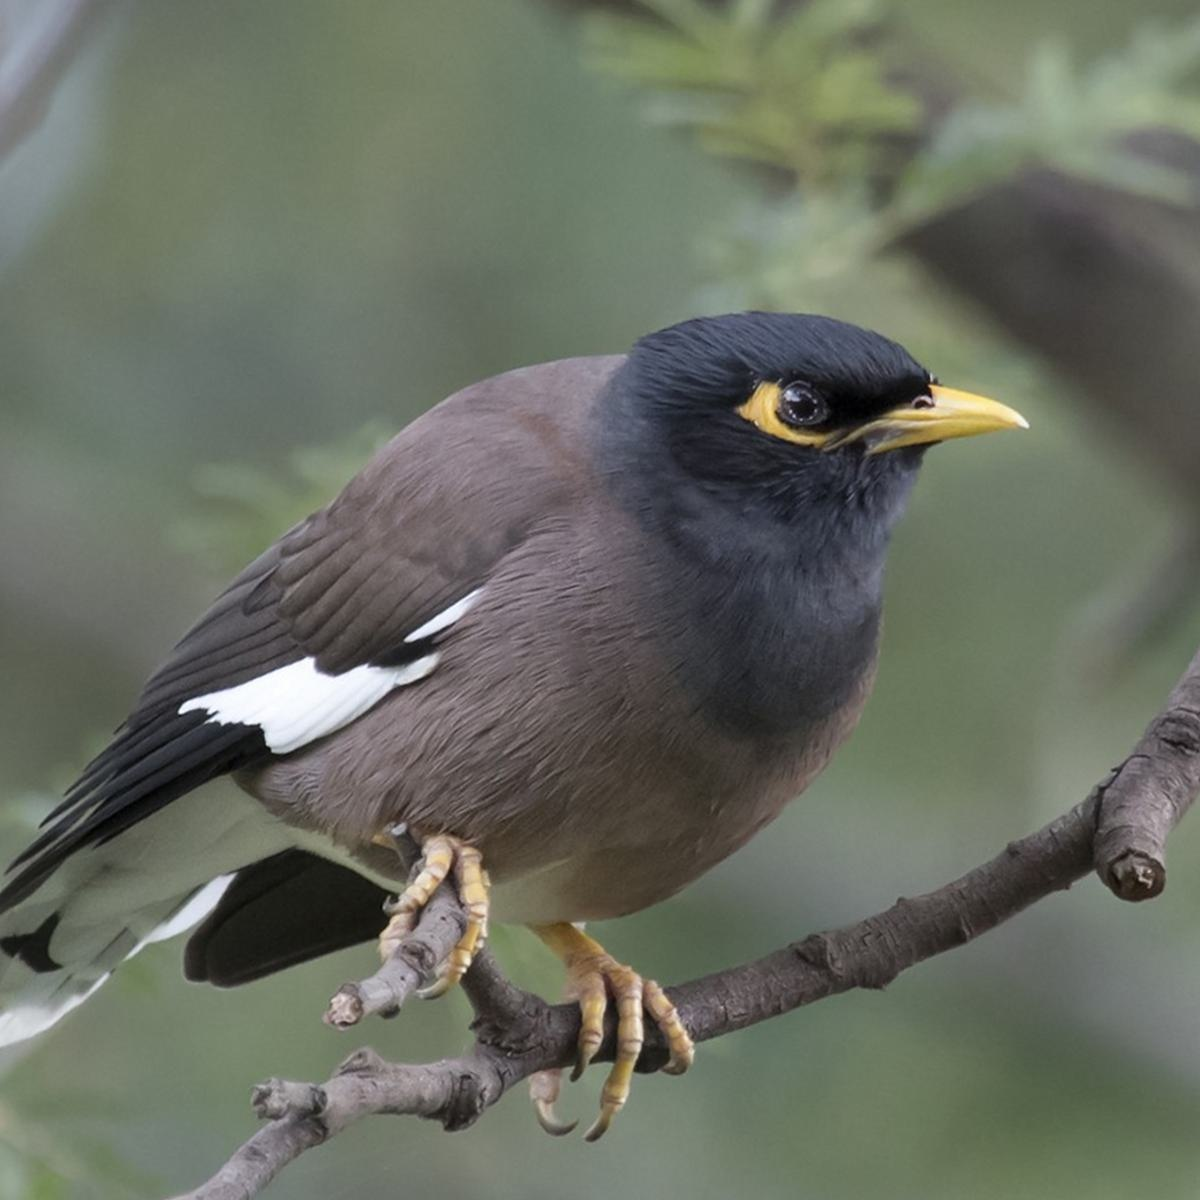myna: (90, 302, 988, 978)
